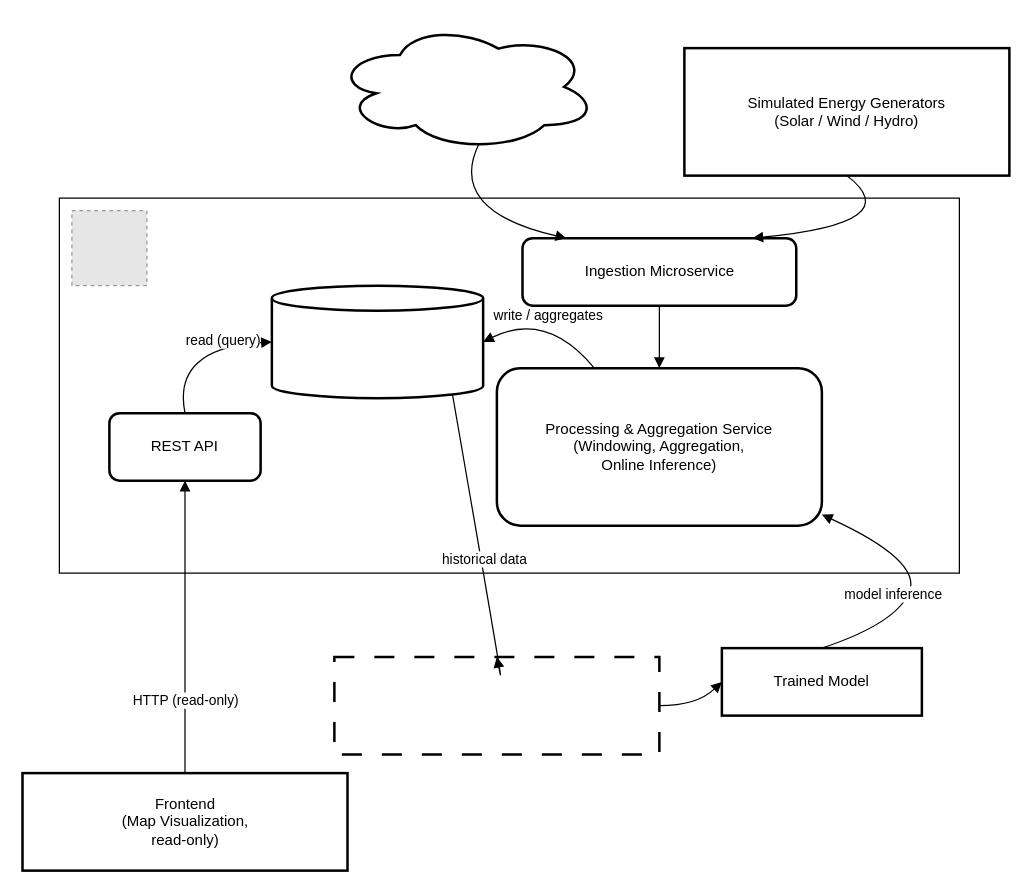
Some shapes in this 1033 by 893 pixel diagram are drawn without their labels. Grey dashed boxes stand in for pictures. The shapes that lost their labels are listed below. From the top down, each one's box as (x1, y1, x2, y2) in pixels, then its label:
(332, 21, 598, 151): External Weather API
(270, 284, 484, 399): Time-Series Database
(332, 655, 660, 755): Model Training (Offline / Batch)
